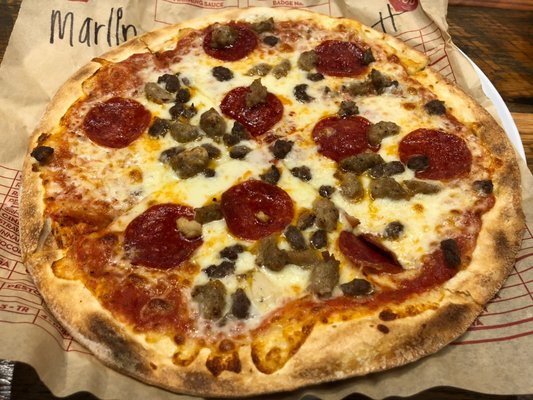sandwich: (18, 10, 525, 398)
